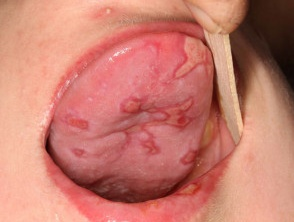SJS-TEN: (105, 60, 212, 167), (167, 31, 223, 92), (169, 176, 212, 203), (59, 108, 96, 133), (68, 140, 96, 166), (176, 148, 199, 165)
